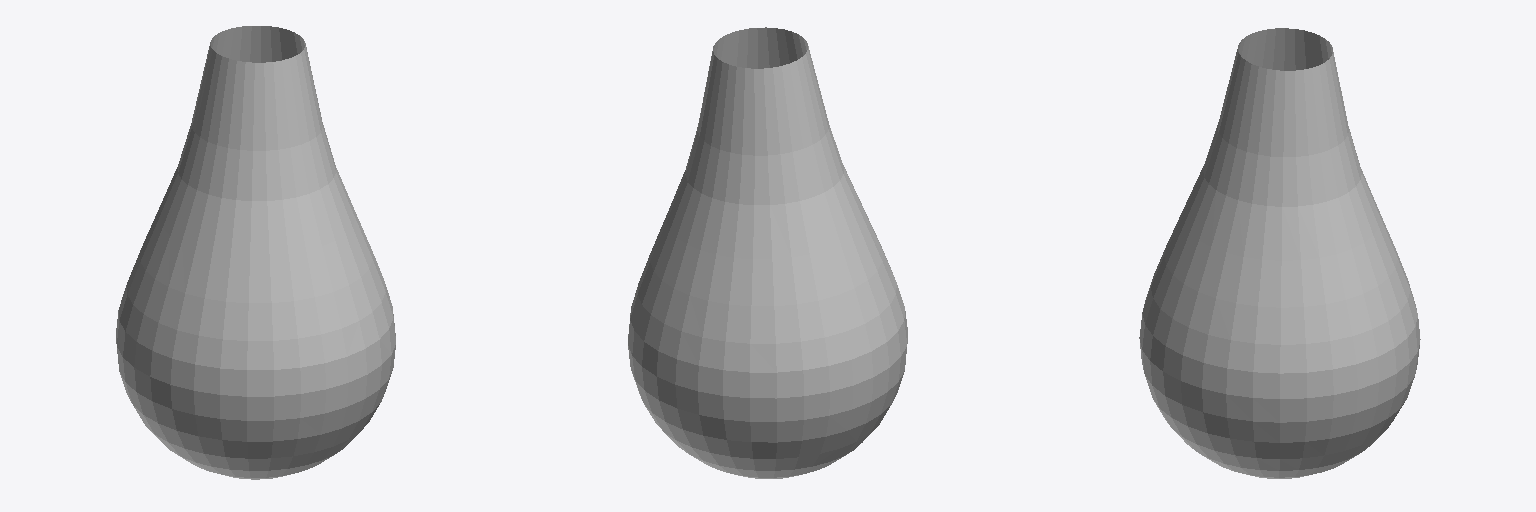
File: flamet.obj
The picture shows the model from 3 angles: view 1: azimuth 30°, elevation 25°; view 2: azimuth 150°, elevation 25°; view 3: azimuth 270°, elevation 25°; orthographic projection.
Parts seen in each view (by area): view 1: Flame; view 2: Flame; view 3: Flame.
Boxes of the visible parts, box(x1,y1,x2,y2) form: Flame: box(116, 26, 395, 479); Flame: box(628, 27, 907, 478); Flame: box(1139, 28, 1420, 478).
Bounding box in the file's own units: 2 × 3.3 × 2.